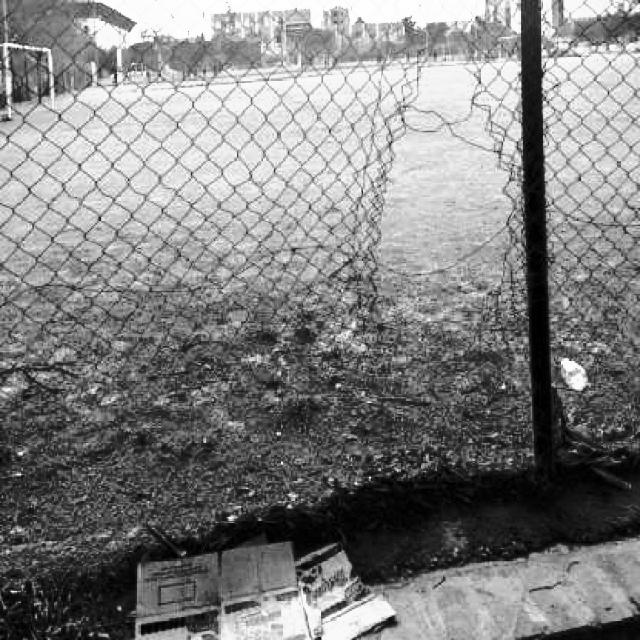anomaly-fence: (304, 35, 580, 421)
